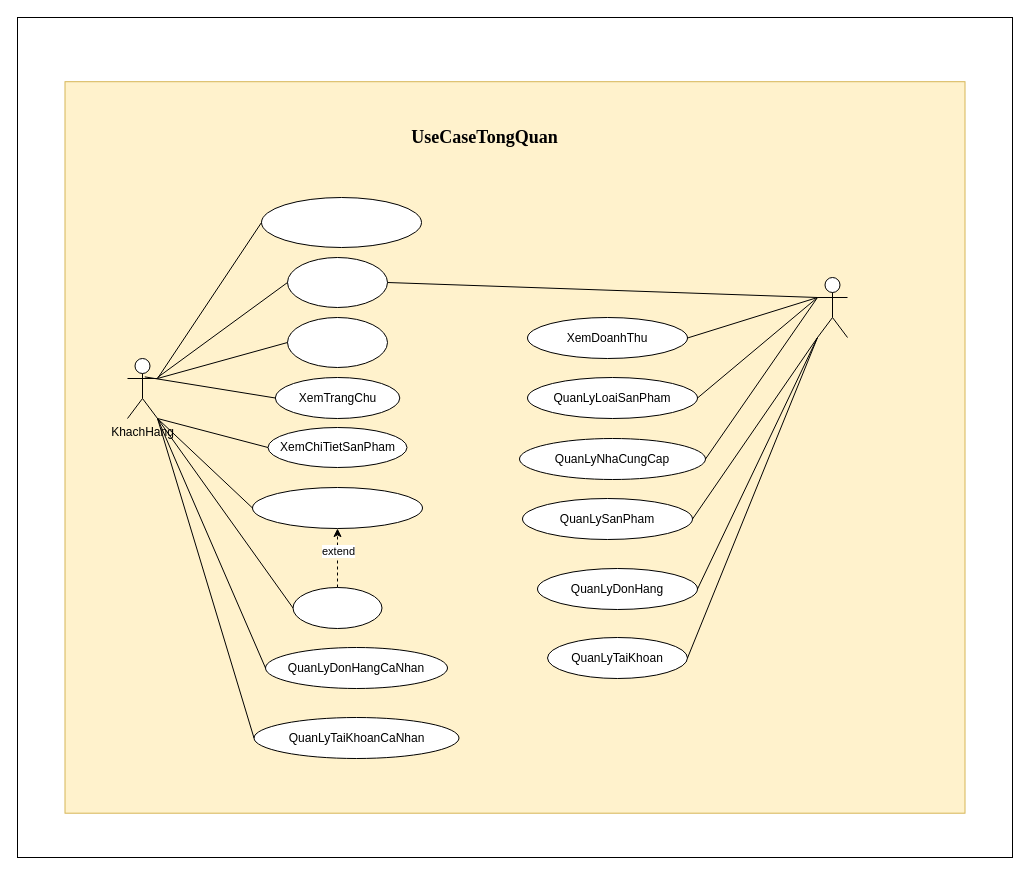
This 1030x875 diagram has some shape labels left out. Each missing label, with the centre of its shape:
DangKy: the point at 341,222
DangNhap: the point at 337,282
DangXuat: the point at 337,342
DatHang: the point at 337,607
NhanVien: the point at 832,307
QuanLyGioHang: the point at 337,507
